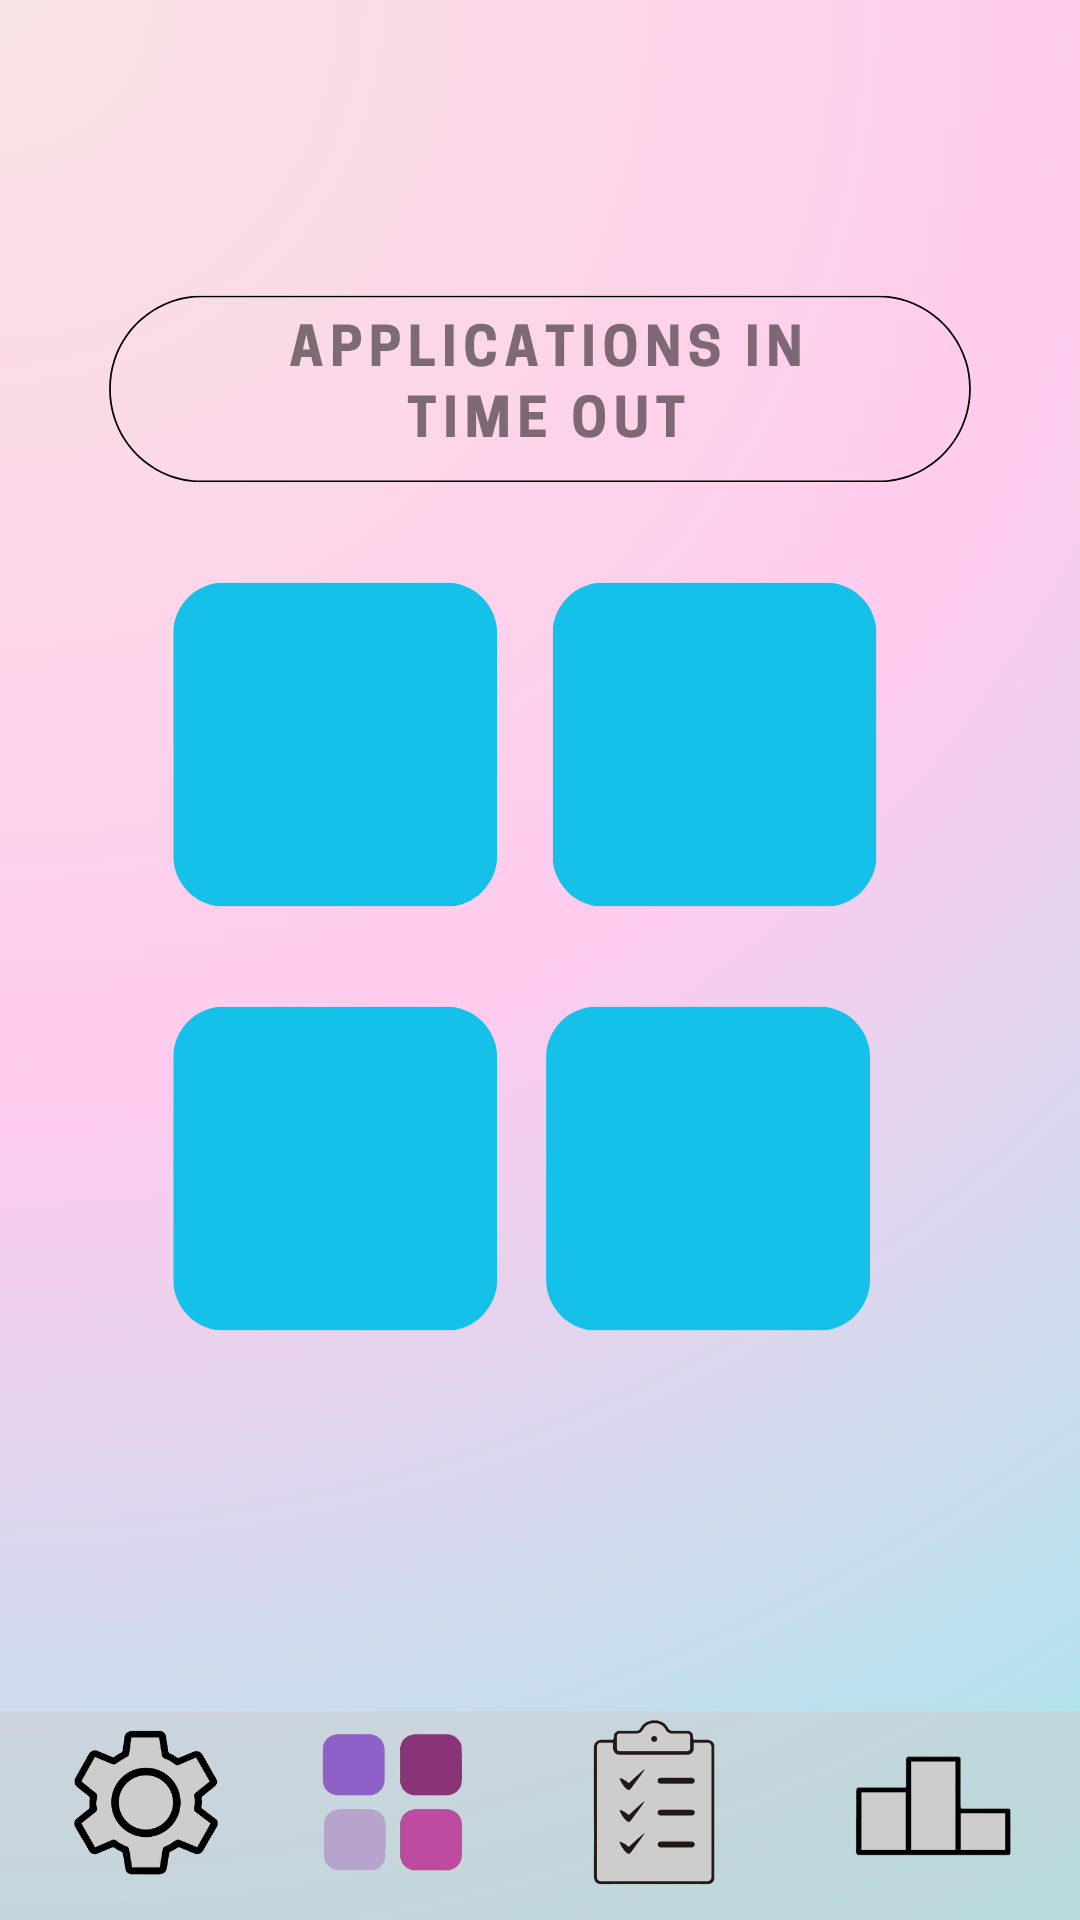

Where to tap for icons on this 1080px×1920px app screen, as (x,y):
apps: (392,1802)
leaderboards: (933,1806)
settings: (146,1802)
tasks: (654,1802)
